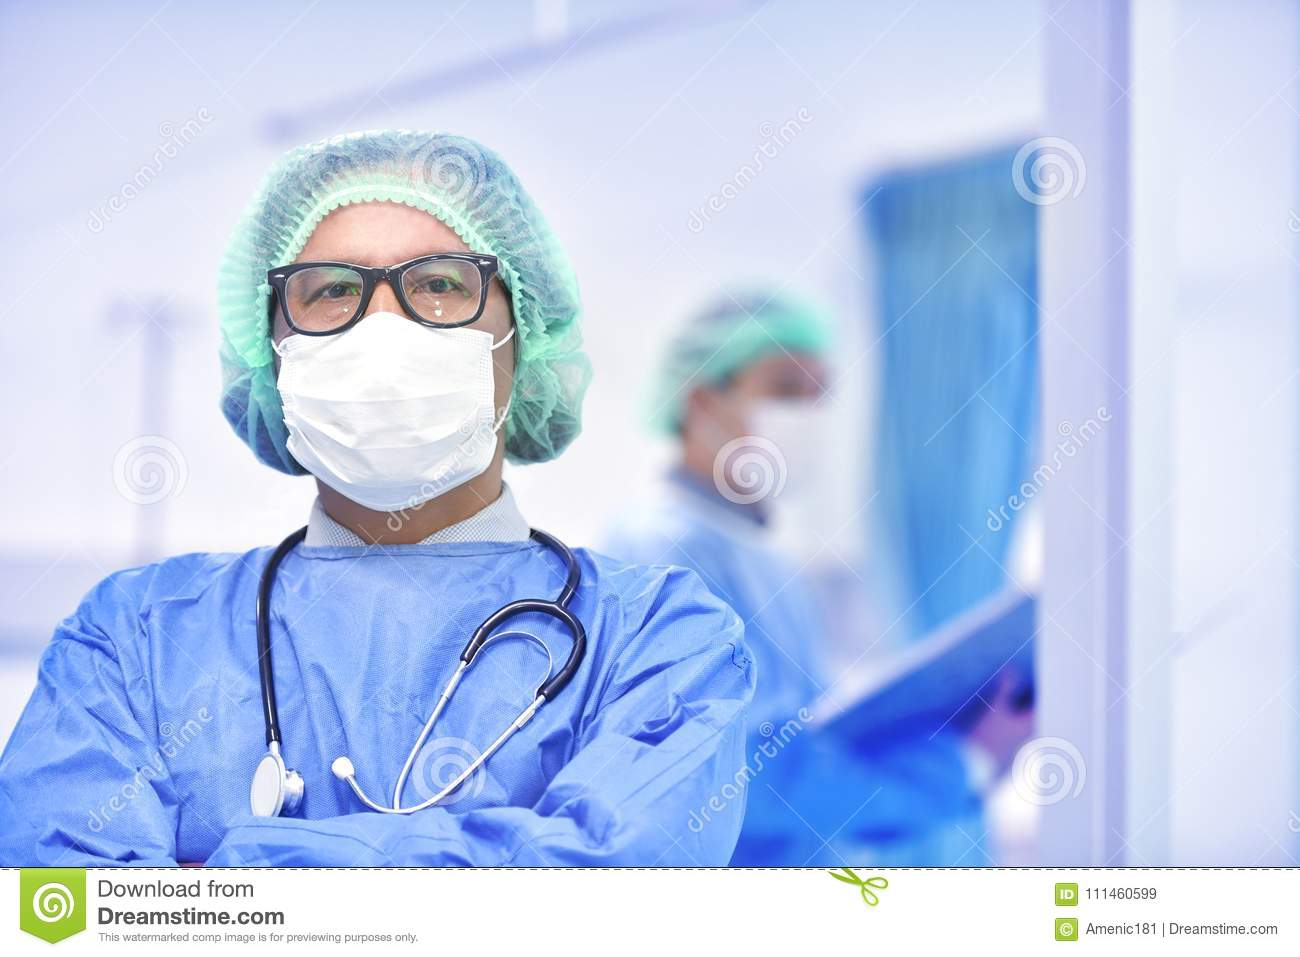mask: (267, 316, 503, 523)
